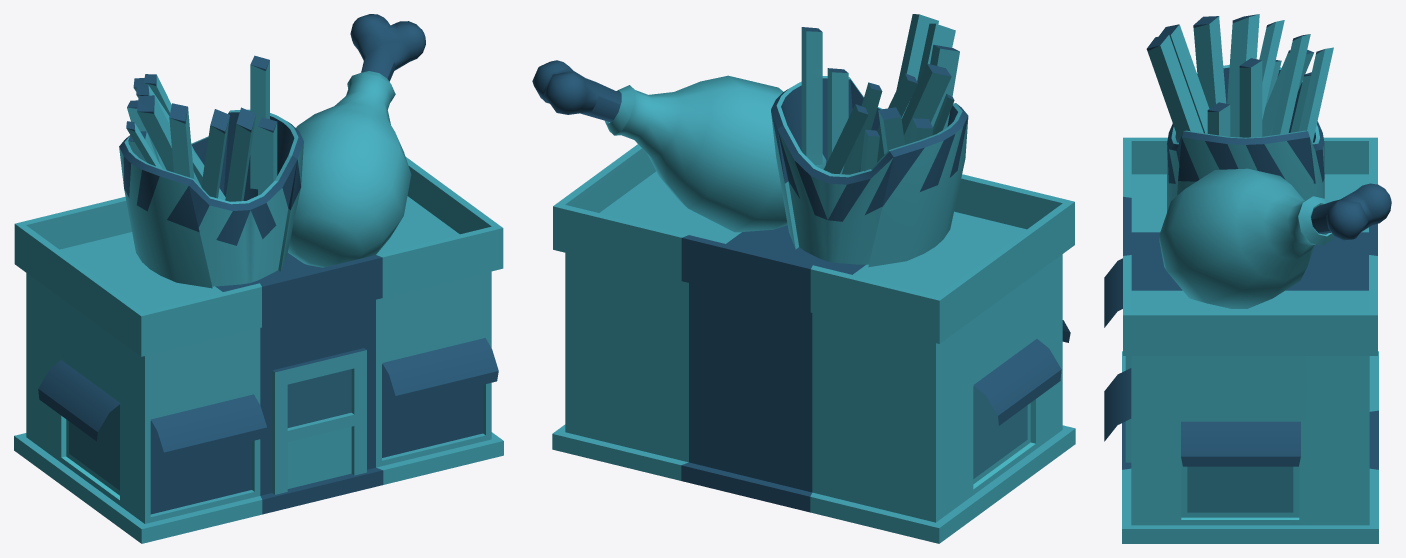
The model's file is Play_Place_LV2.FBX.
3 views of the same model, side by side, from view 1: azimuth 30°, elevation 25°; view 2: azimuth 150°, elevation 25°; view 3: azimuth 270°, elevation 25° (orthographic). The views are drawn at different scales.
Visible parts, largest first — view 1: Play_Place; view 2: Play_Place; view 3: Play_Place.
Part boxes in pixels (<box>): Play_Place: <box>14,14,503,543</box>; Play_Place: <box>532,14,1075,543</box>; Play_Place: <box>1104,14,1391,543</box>.
Bounding box in the file's own units: 16.18 × 14.86 × 9.79.
